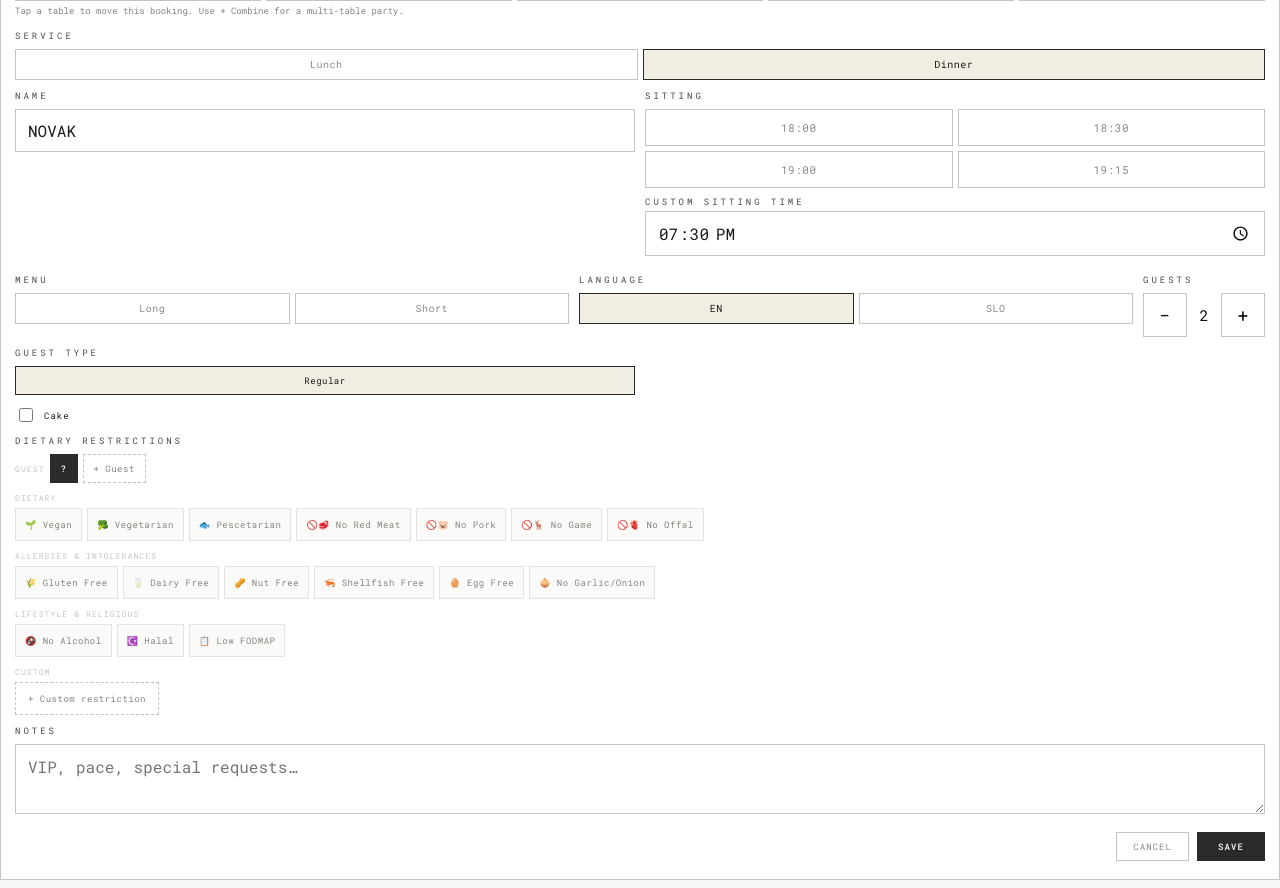
Test: reservation save and draft safety › blocks repeated saves while one is pending
(page scrolled)
Click the button "SAVE": [1231, 846] box x1=1197 y1=832 x2=1265 y2=861
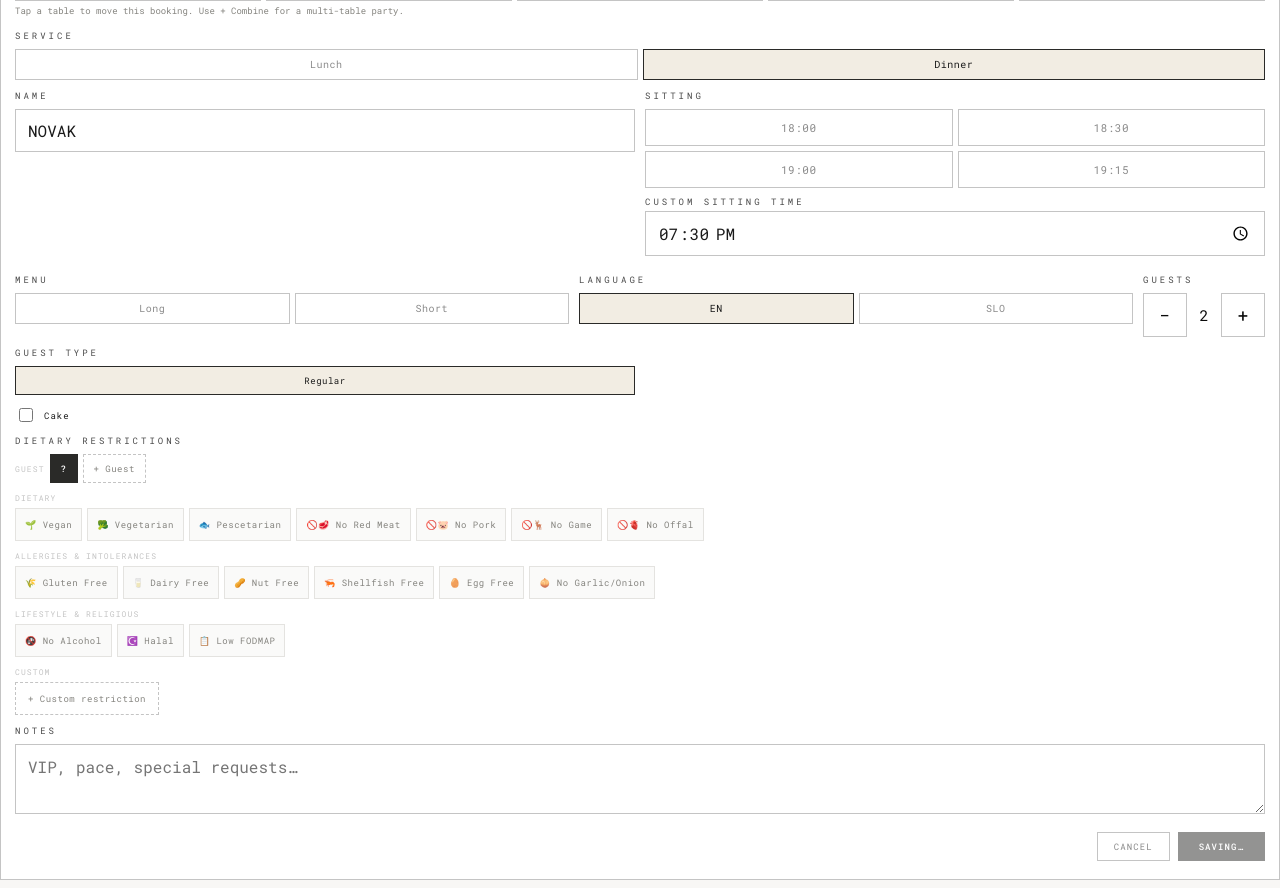
Click the button "SAVE": [1221, 846] box x1=1178 y1=832 x2=1265 y2=861
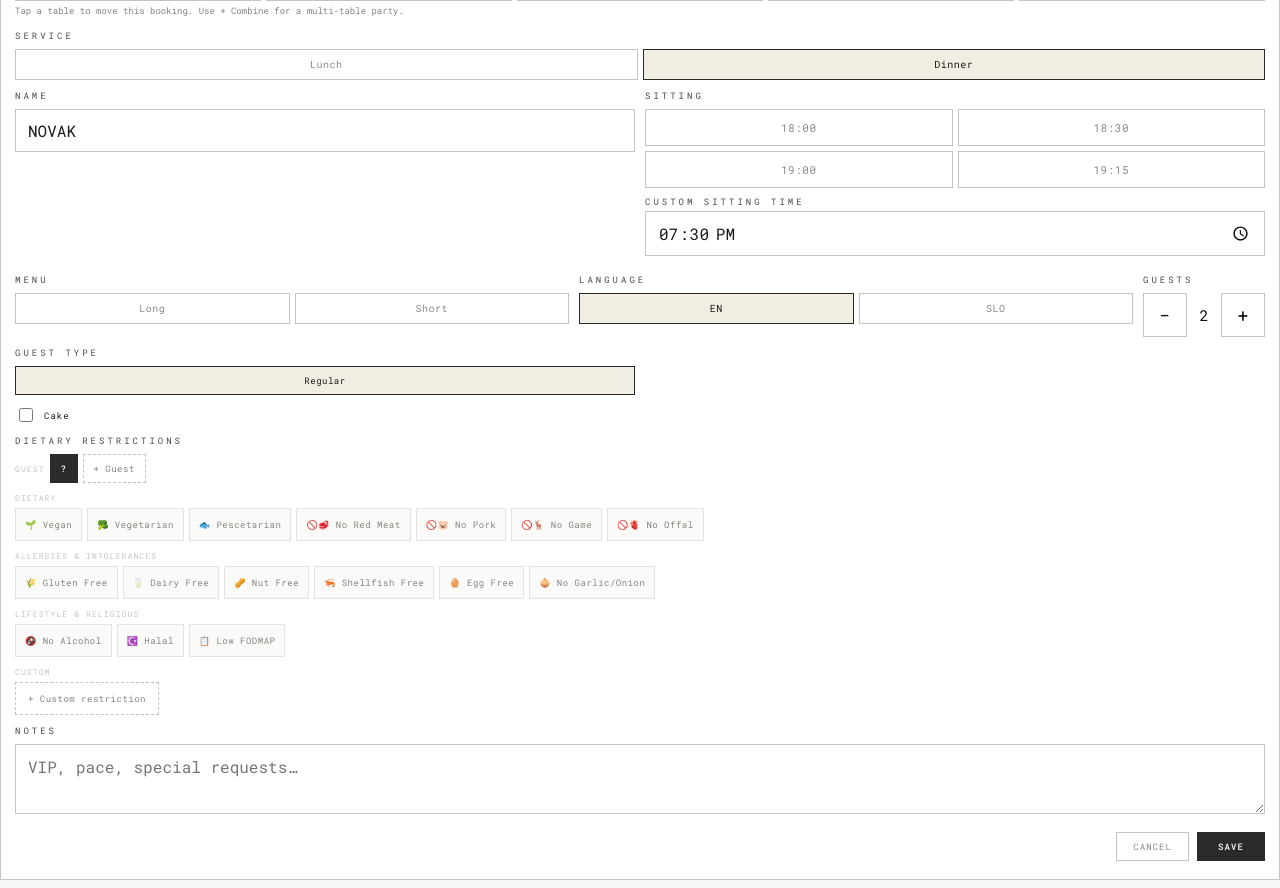
Now the button "SAVE" is enabled, box x1=1197 y1=832 x2=1265 y2=861
